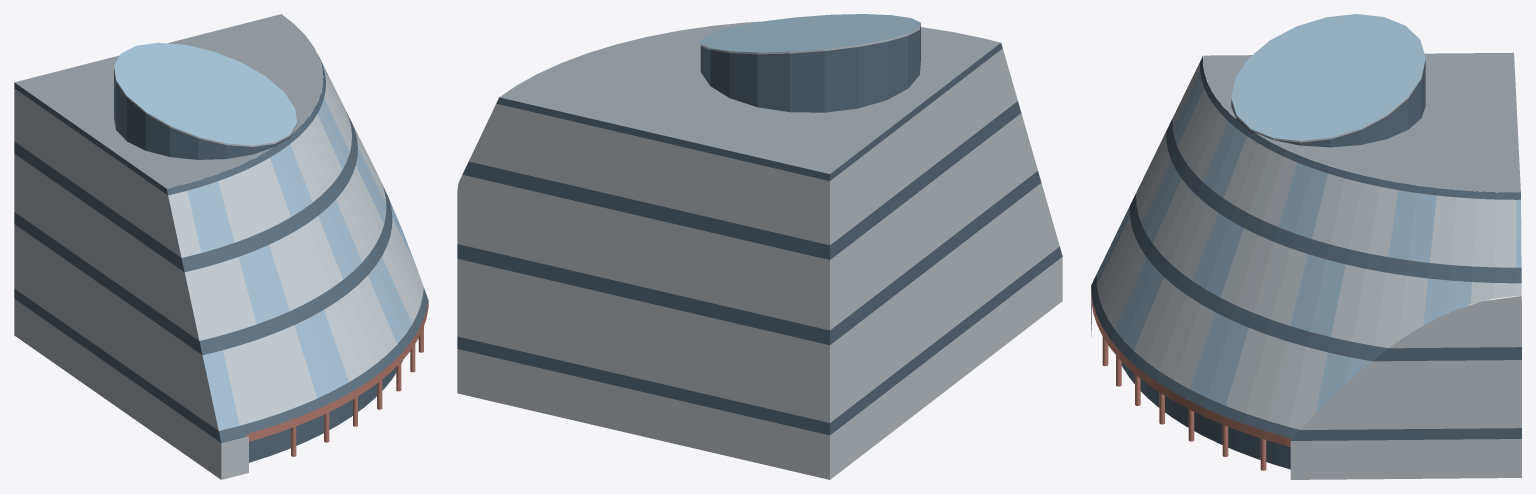
The model's file is detail.glb.
3 renders of one model, left to right at view 1: azimuth 30°, elevation 25°; view 2: azimuth 150°, elevation 25°; view 3: azimuth 270°, elevation 25°, orthographic. The views are drawn at different scales.
Visible parts, largest first — view 1: james-r-thompson-center; view 2: james-r-thompson-center; view 3: james-r-thompson-center.
Part boxes in pixels (<box>): james-r-thompson-center: <box>14,14,428,479</box>; james-r-thompson-center: <box>457,14,1062,479</box>; james-r-thompson-center: <box>1091,14,1521,479</box>.
Size of the model in its own units: 101 by 95.4 by 115.
